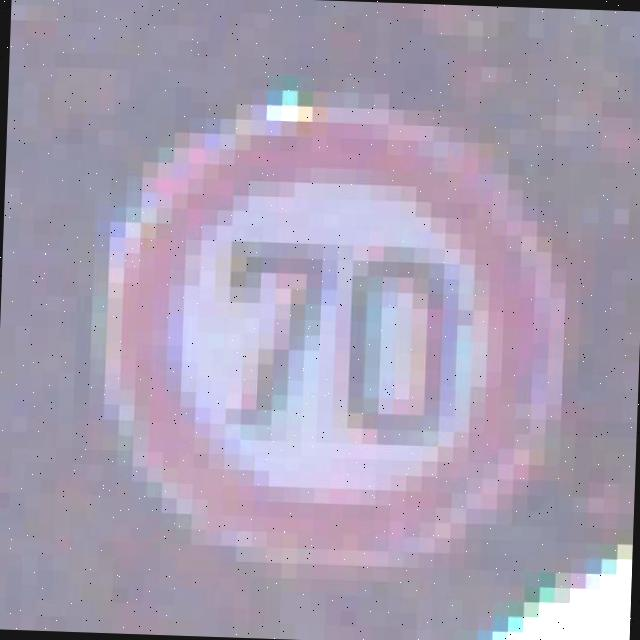Ograniczenie predkosci do 70: (106, 107, 558, 568)
